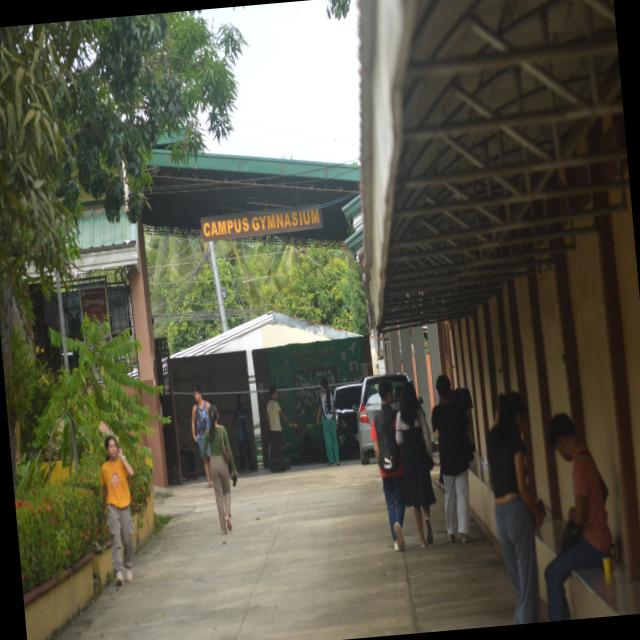person: (545, 414, 612, 621), (487, 392, 543, 624), (432, 375, 473, 542), (396, 382, 436, 548), (371, 379, 406, 551), (101, 436, 134, 586), (202, 405, 237, 534), (267, 387, 296, 472), (316, 379, 340, 466), (233, 394, 255, 472), (192, 385, 210, 453)
